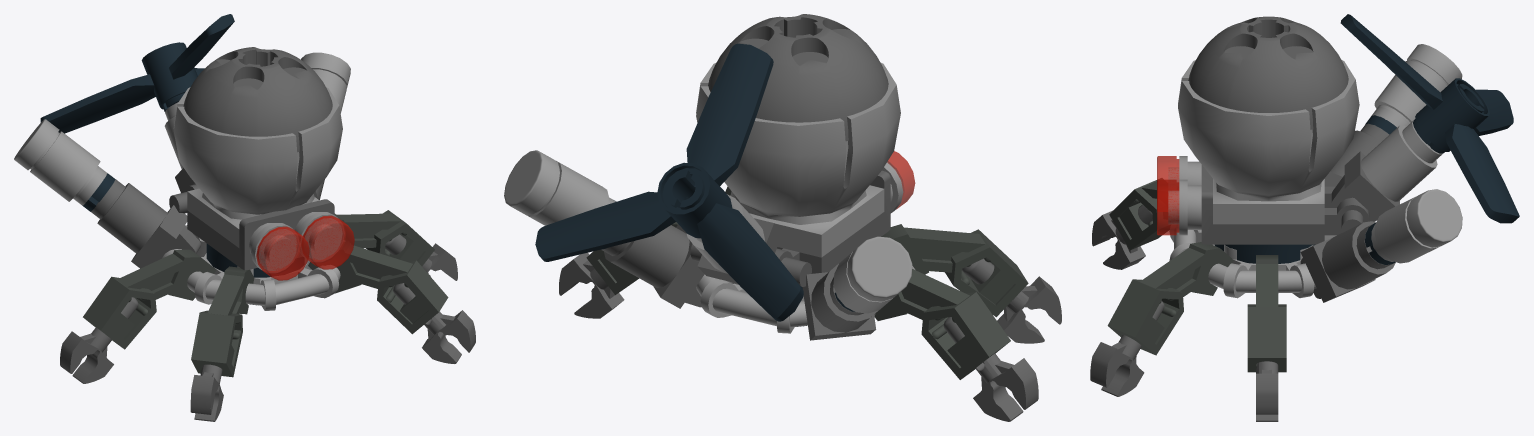
The model's file is mm-01-buzz.dae.
The picture shows the model from 3 angles, left to right: view 1: azimuth 30°, elevation 25°; view 2: azimuth 150°, elevation 25°; view 3: azimuth 270°, elevation 25°; orthographic projection. The views are drawn at different scales.
Size of the model in its own units: 172 by 154 by 124.
